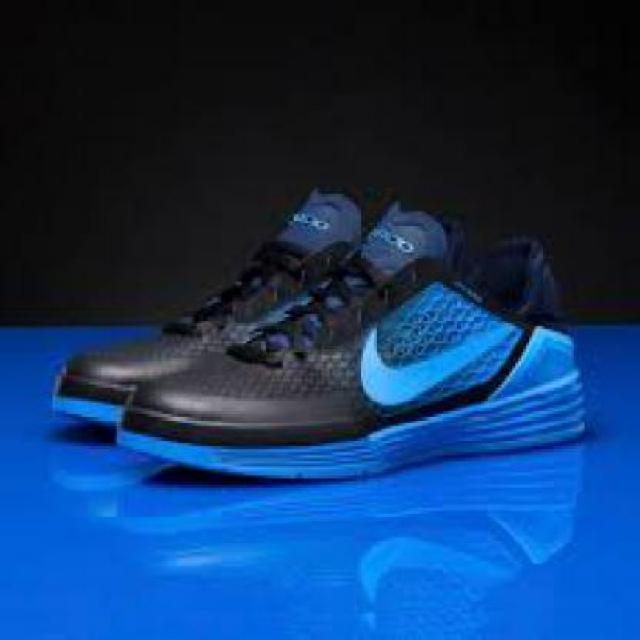Nike: (346, 312, 526, 409)
